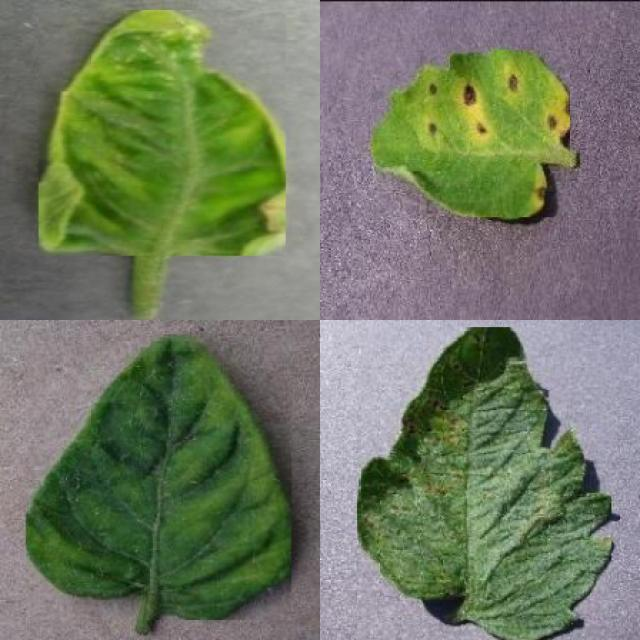Septoria: (358, 327, 612, 640), (373, 50, 570, 217)
Yellow Leaf Curl Virus: (25, 335, 292, 621), (38, 10, 286, 256)
